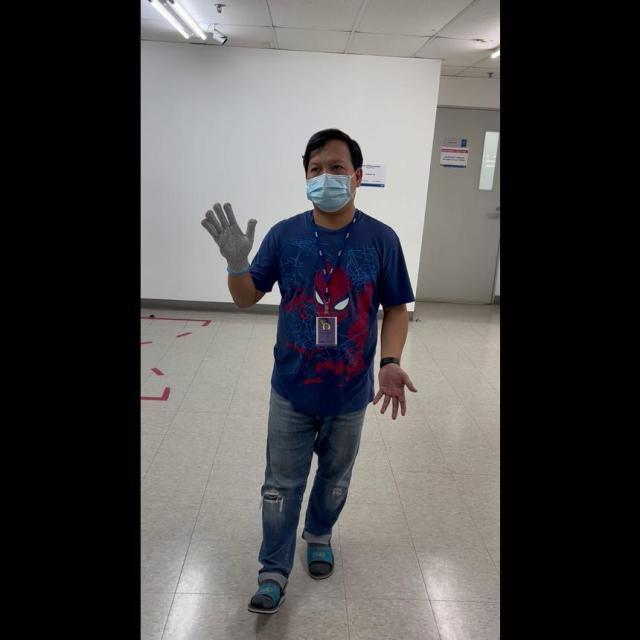bare_hand: (369, 360, 415, 418)
gloved_hand: (200, 196, 259, 275)
